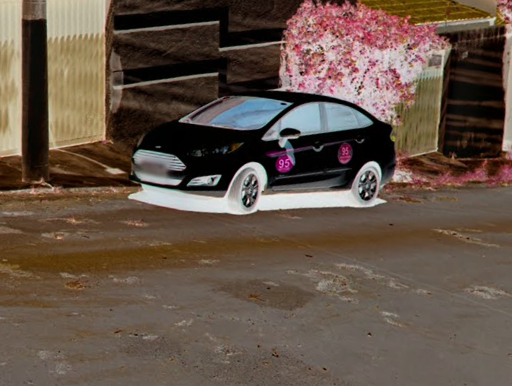car: (128, 80, 399, 225)
